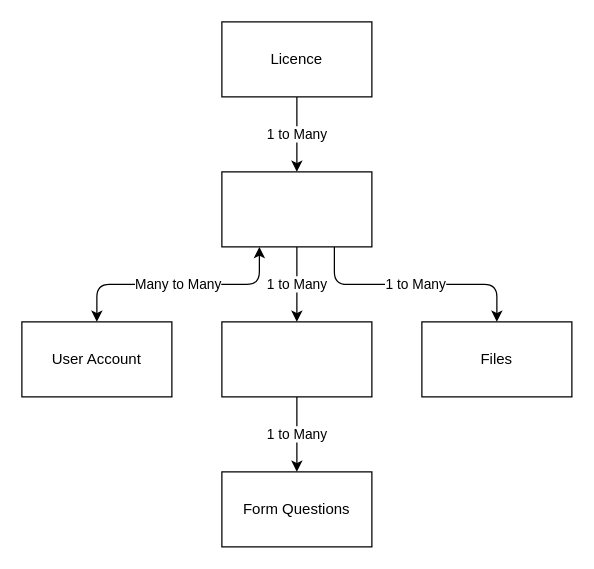
Image size: 594x569. Some labels were removed from this diagram. The shapes that lost their labels are listed below. From the top down, each one's box as (x1, y1, x2, y2) in pixels, then its label:
(221, 171, 372, 247): Company
(221, 321, 372, 397): Forms
